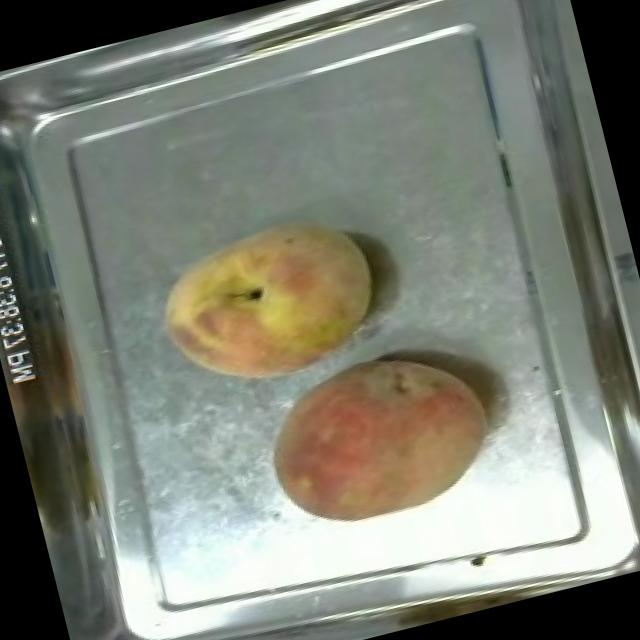Fruit: (244, 328, 509, 552), (138, 193, 398, 411)
